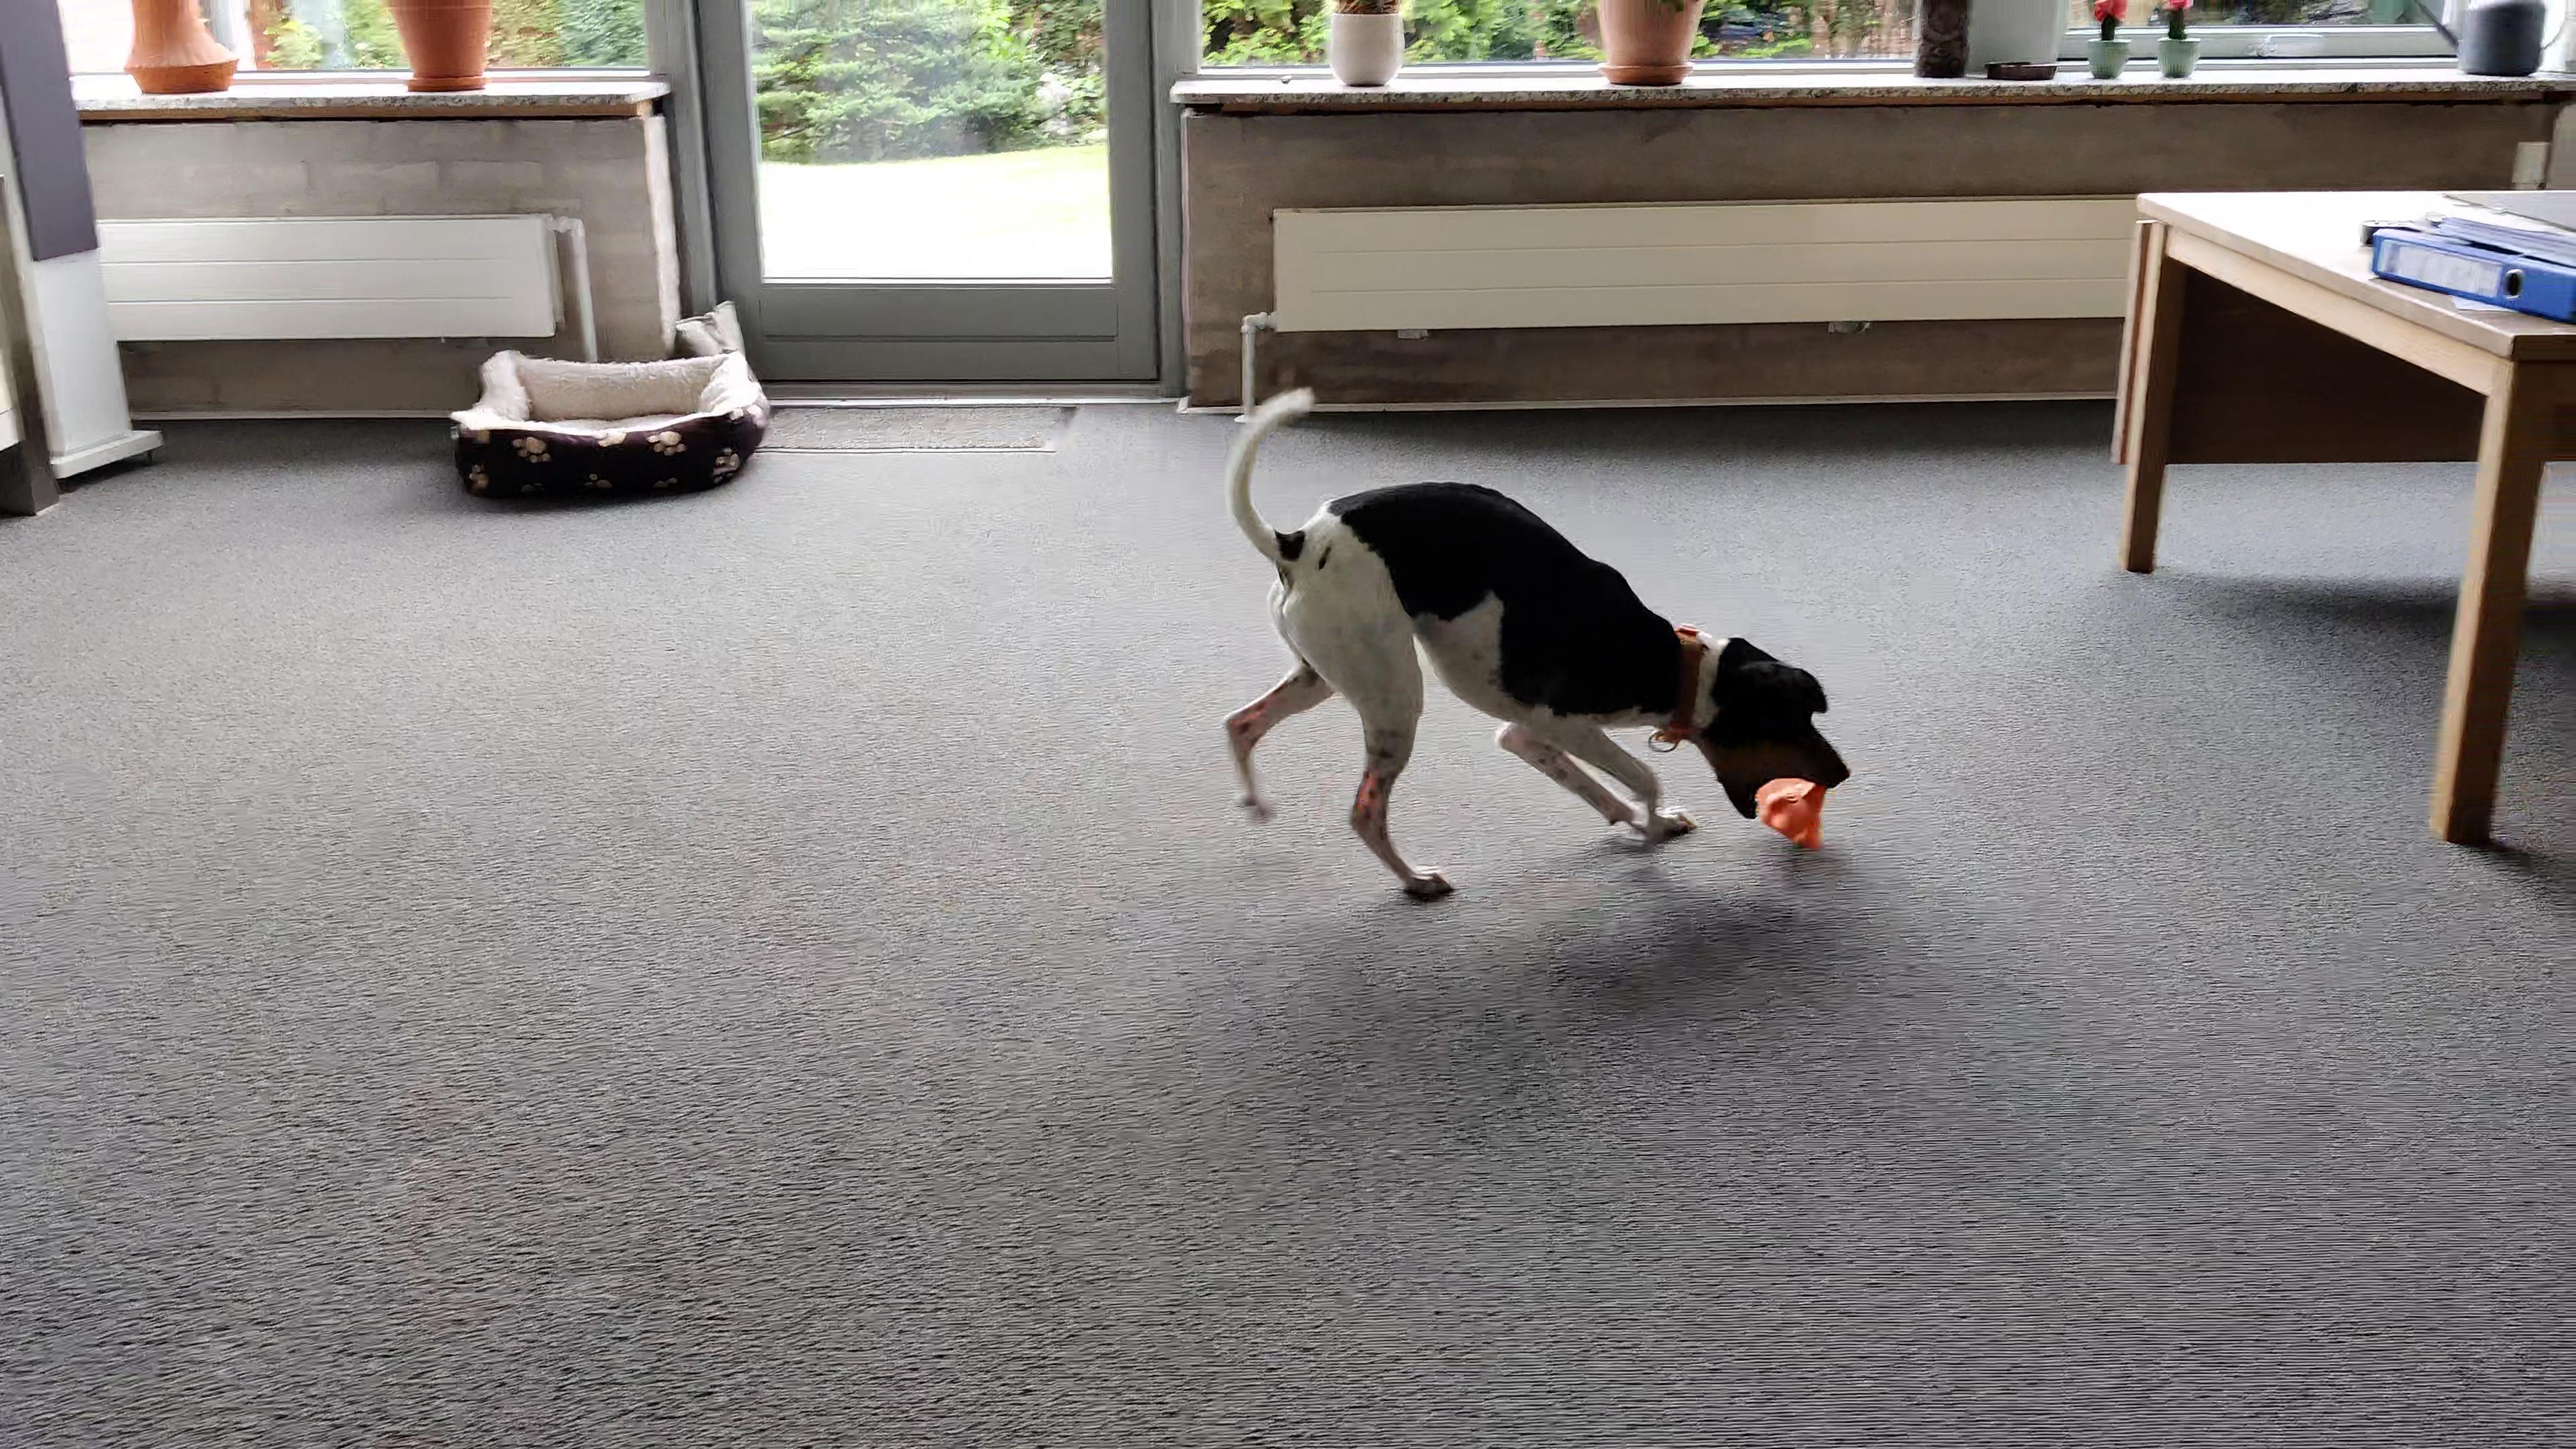Dog: (1217, 384, 1851, 904)
